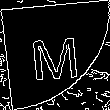M_N: (28, 28, 82, 82)
